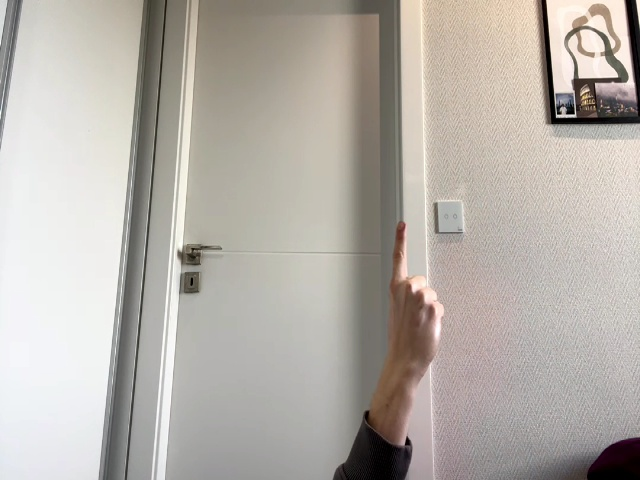D: (389, 221, 444, 383)
